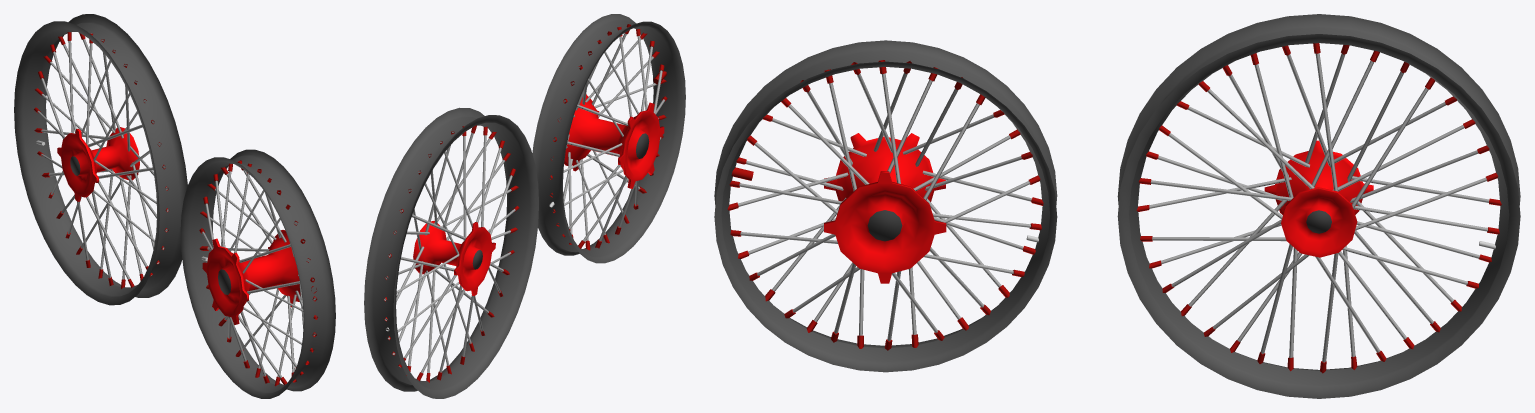
File: FrontAndRearWheel.glb
3 views of the same model, side by side, from view 1: azimuth 30°, elevation 25°; view 2: azimuth 150°, elevation 25°; view 3: azimuth 270°, elevation 25° (orthographic). The views are drawn at different scales.
Parts seen in each view (by area): view 1: front_wheel_rim, rear_wheel_rim, front_wheel_spokes, rear_wheel_spokes, rear_wheel_hub, front_wheel_hub, rear_wheel_spokes_nipples, front_wheel_nipples; view 2: front_wheel_rim, rear_wheel_rim, front_wheel_spokes, rear_wheel_spokes, rear_wheel_hub, front_wheel_hub, front_wheel_nipples, rear_wheel_spokes_nipples; view 3: front_wheel_rim, rear_wheel_rim, front_wheel_spokes, rear_wheel_spokes, rear_wheel_hub, front_wheel_hub, front_wheel_nipples, rear_wheel_spokes_nipples.
Boxes of the visible parts, left/top/right/bottom form: front_wheel_rim: left=14, top=14, right=187, bottom=305; rear_wheel_rim: left=180, top=149, right=335, bottom=398; front_wheel_spokes: left=37, top=33, right=168, bottom=279; rear_wheel_spokes: left=202, top=170, right=315, bottom=378; rear_wheel_hub: left=202, top=230, right=300, bottom=324; front_wheel_hub: left=57, top=127, right=139, bottom=201; rear_wheel_spokes_nipples: left=199, top=160, right=317, bottom=386; front_wheel_nipples: left=34, top=32, right=169, bottom=288; front_wheel_rim: left=364, top=107, right=538, bottom=398; rear_wheel_rim: left=532, top=14, right=685, bottom=263; front_wheel_spokes: left=384, top=132, right=515, bottom=373; rear_wheel_spokes: left=563, top=33, right=665, bottom=241; rear_wheel_hub: left=564, top=94, right=664, bottom=188; front_wheel_hub: left=413, top=221, right=495, bottom=296; front_wheel_nipples: left=384, top=125, right=519, bottom=382; rear_wheel_spokes_nipples: left=549, top=24, right=667, bottom=250; front_wheel_rim: left=1117, top=14, right=1520, bottom=398; rear_wheel_rim: left=714, top=40, right=1057, bottom=372; front_wheel_spokes: left=1149, top=53, right=1489, bottom=362; rear_wheel_spokes: left=738, top=72, right=1031, bottom=341; rear_wheel_hub: left=824, top=133, right=946, bottom=283; front_wheel_hub: left=1264, top=140, right=1373, bottom=257; front_wheel_nipples: left=1136, top=43, right=1501, bottom=373; rear_wheel_spokes_nipples: left=727, top=60, right=1043, bottom=350.
Size of the model in its own units: 0.4998 by 1.86 by 3.72.
